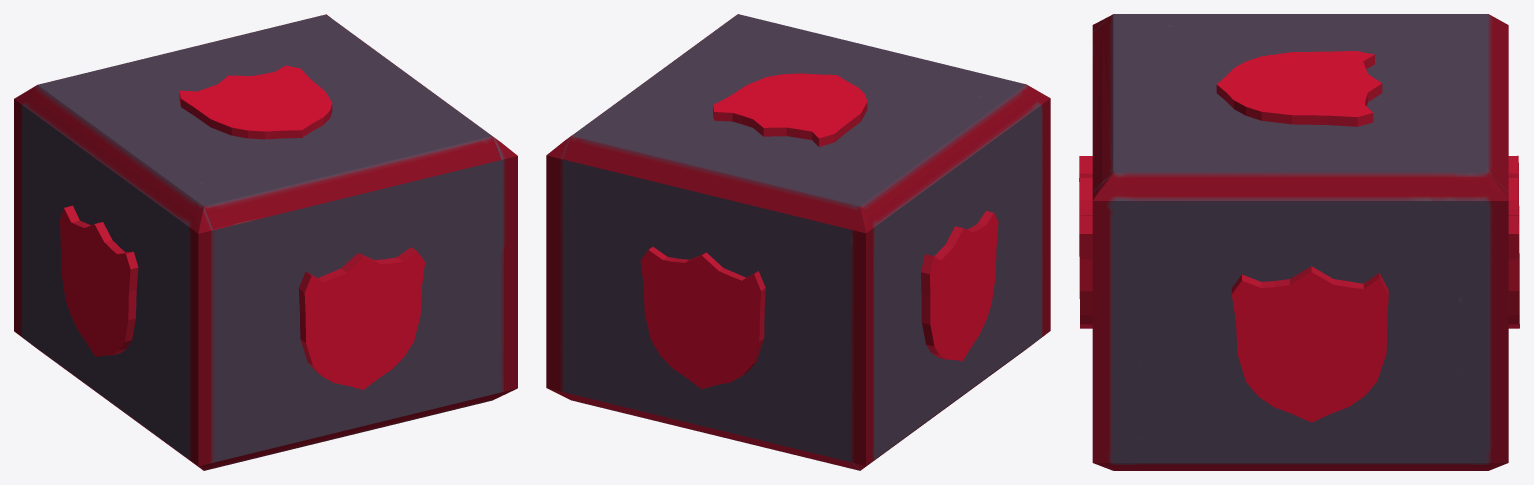
Rendered from armor pick up af.fbx.
3 views of the same model, side by side, from view 1: azimuth 30°, elevation 25°; view 2: azimuth 150°, elevation 25°; view 3: azimuth 270°, elevation 25° (orthographic). The views are drawn at different scales.
Parts seen in each view (by area): view 1: polySurface12; view 2: polySurface12; view 3: polySurface12.
Boxes of the visible parts, <box> form: polySurface12: <box>14,14,517,470</box>; polySurface12: <box>546,14,1050,470</box>; polySurface12: <box>1079,14,1519,470</box>.
Size of the model in its own units: 26.64 by 20.43 by 26.49.
Materials: 1 (1 with a texture image).
